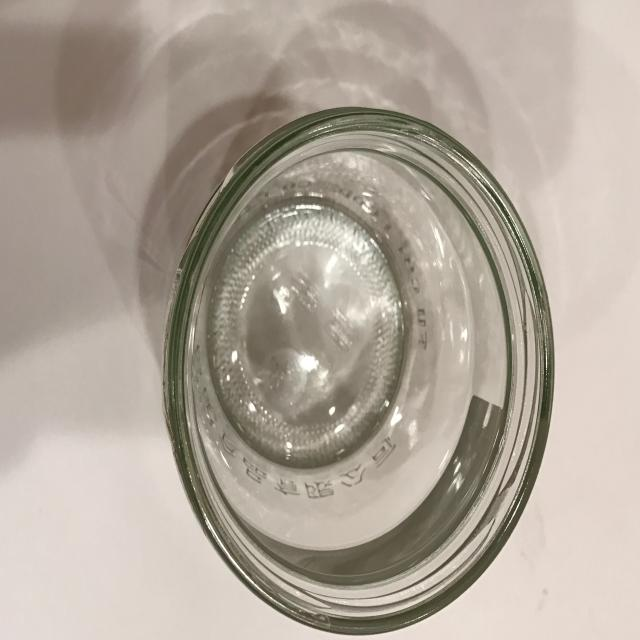glass: (161, 104, 555, 635)
